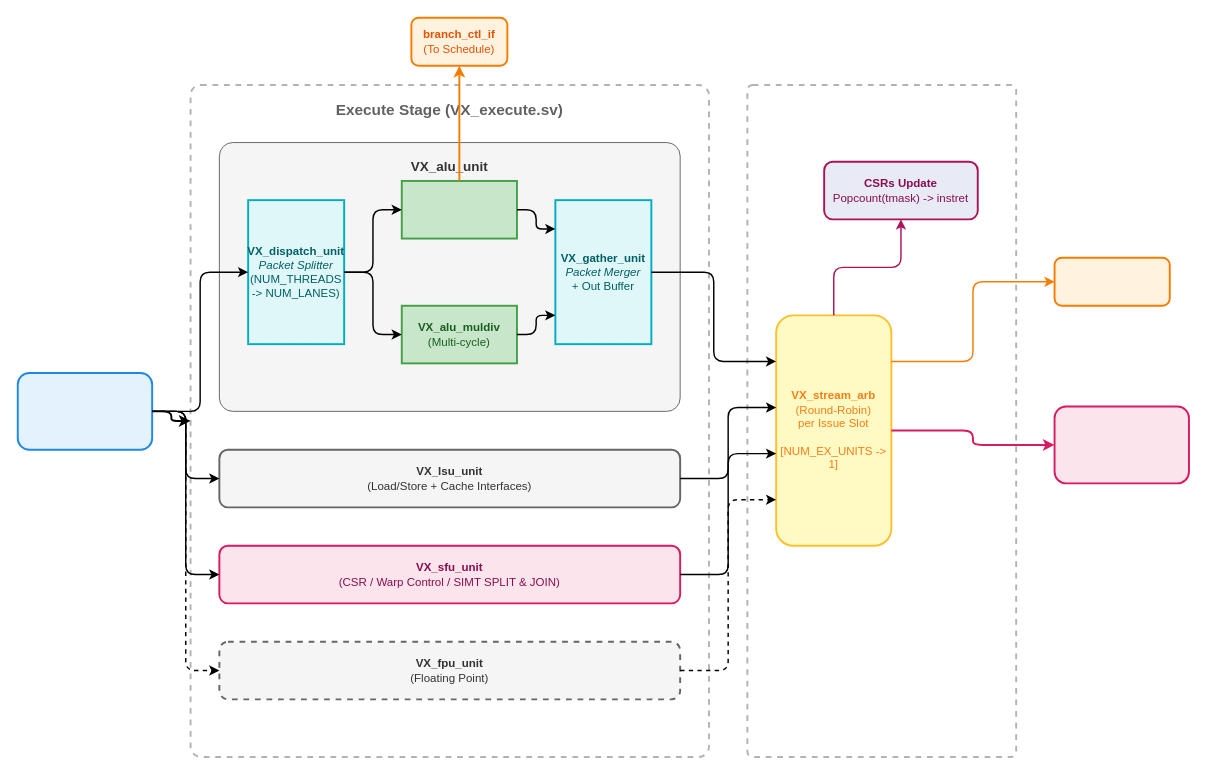
Some shapes in this 1206 by 774 pixel diagram are drawn without their labels. Here are the shapes that lost their labels. From the top down, the box of each, then its label:
(400, 180, 517, 239): VX_alu_int (1-cycle Int / Branch)
(1053, 256, 1170, 306): commit_sched_if (Free Warp on EOP)
(16, 372, 153, 450): dispatch_if [ISSUE_WIDTH] (Valid, PC, op_type, tmask, rs1, rs2...)
(746, 84, 1017, 757): Commit Stage (VX_commit.sv)
(1053, 405, 1189, 484): writeback_if [wb] (To Operands/GPR) 0-Backpressure
